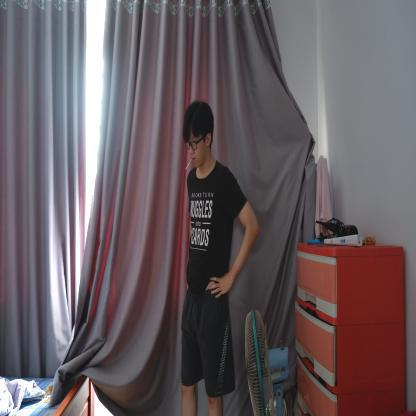cigarette: (185, 158, 193, 170)
person: (178, 100, 260, 415)
